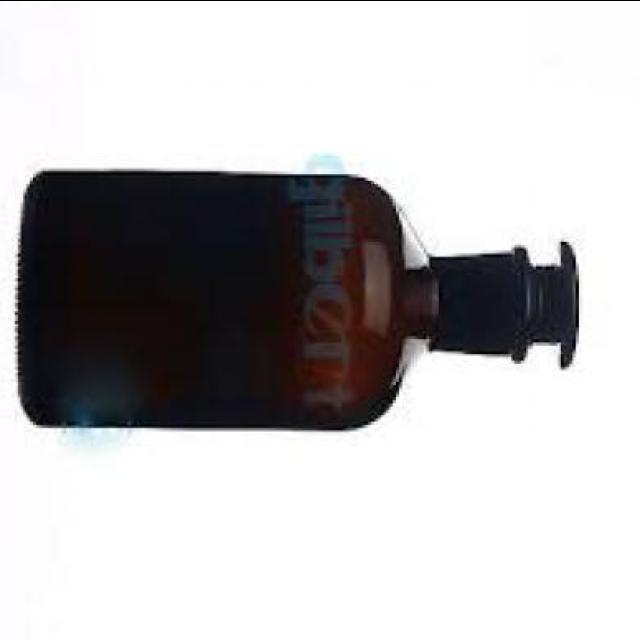kaca: (19, 166, 580, 424)
